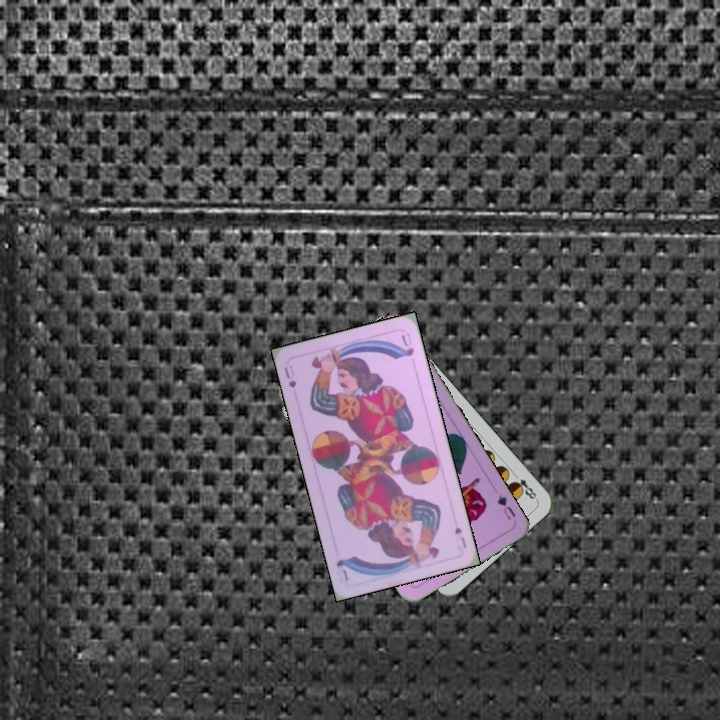E8: (509, 469, 540, 503)
GU: (493, 491, 518, 522)
SU: (280, 361, 299, 391), (450, 522, 469, 551)
